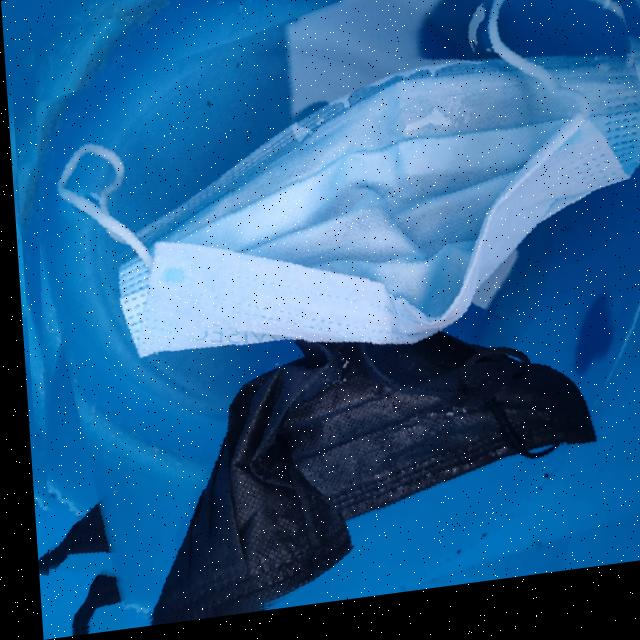mask: (10, 0, 640, 639), (6, 0, 640, 451), (17, 258, 597, 640)
